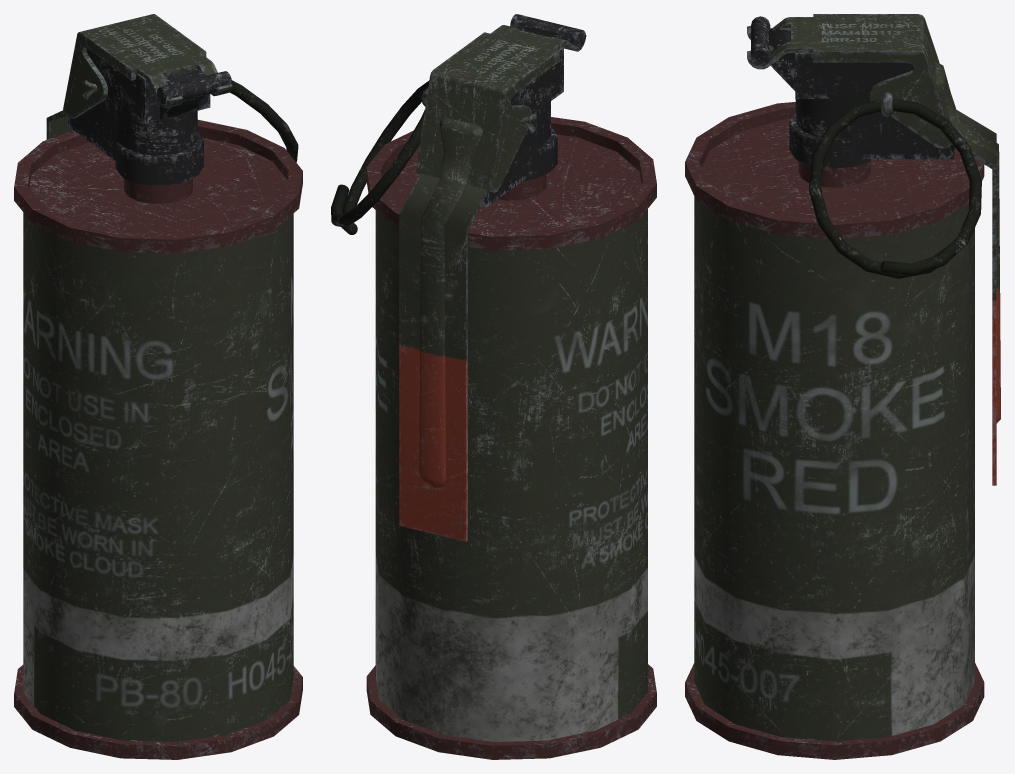
File: smoke_tp.glb
The picture shows the model from 3 angles, left to right: view 1: azimuth 30°, elevation 25°; view 2: azimuth 150°, elevation 25°; view 3: azimuth 270°, elevation 25°; orthographic projection. The views are drawn at different scales.
Parts seen in each view (by area): view 1: SM_SmokeGrenade_PainterExport; view 2: SM_SmokeGrenade_PainterExport; view 3: SM_SmokeGrenade_PainterExport.
Boxes of the visible parts, bbox=[...] form: SM_SmokeGrenade_PainterExport: bbox=[14, 14, 302, 759]; SM_SmokeGrenade_PainterExport: bbox=[331, 14, 656, 759]; SM_SmokeGrenade_PainterExport: bbox=[685, 14, 1000, 759].
Size of the model in its own units: 0.0647 by 0.145 by 0.0625.
Materials: 1 (1 with a texture image).
